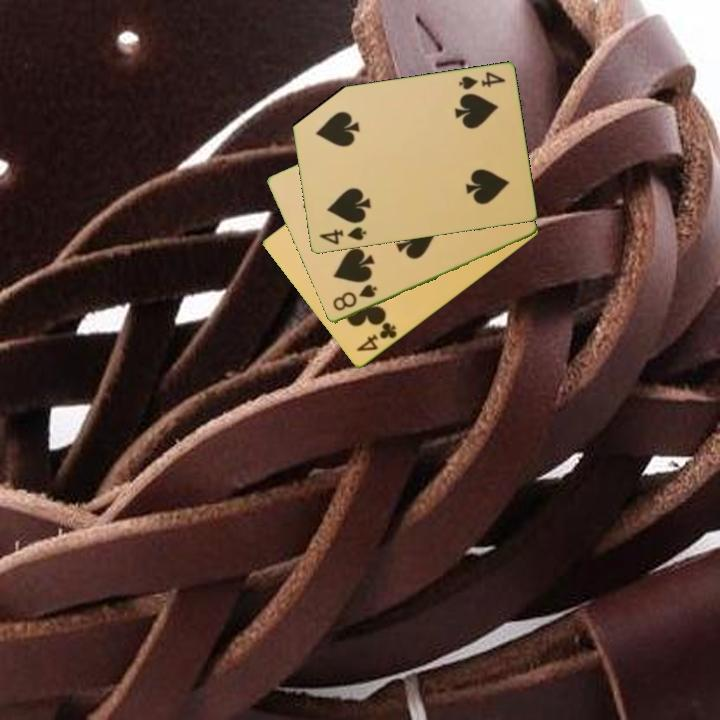4c: (353, 319, 400, 355)
4s: (315, 224, 369, 248), (455, 69, 508, 93)
8s: (329, 281, 380, 314)
